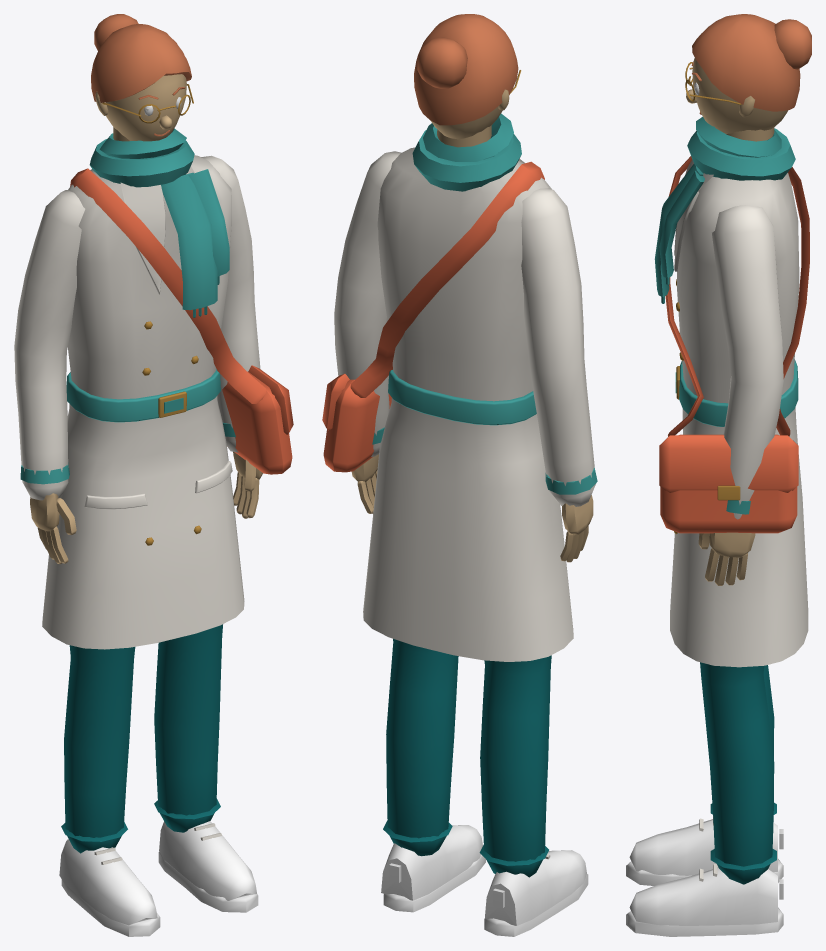
Rendered from passenger_c.fbx.
The picture shows the model from 3 angles, left to right: view 1: azimuth 30°, elevation 25°; view 2: azimuth 150°, elevation 25°; view 3: azimuth 270°, elevation 25°; orthographic projection. The views are drawn at different scales.
Parts seen in each view (by area): view 1: Body; view 2: Body; view 3: Body.
Part boxes in pixels (box(x1,y1,x2,y2)): Body: box(14, 14, 293, 936); Body: box(322, 14, 597, 936); Body: box(626, 14, 811, 936).
Bounding box in the file's own units: 0.4789 × 1.63 × 0.311.
